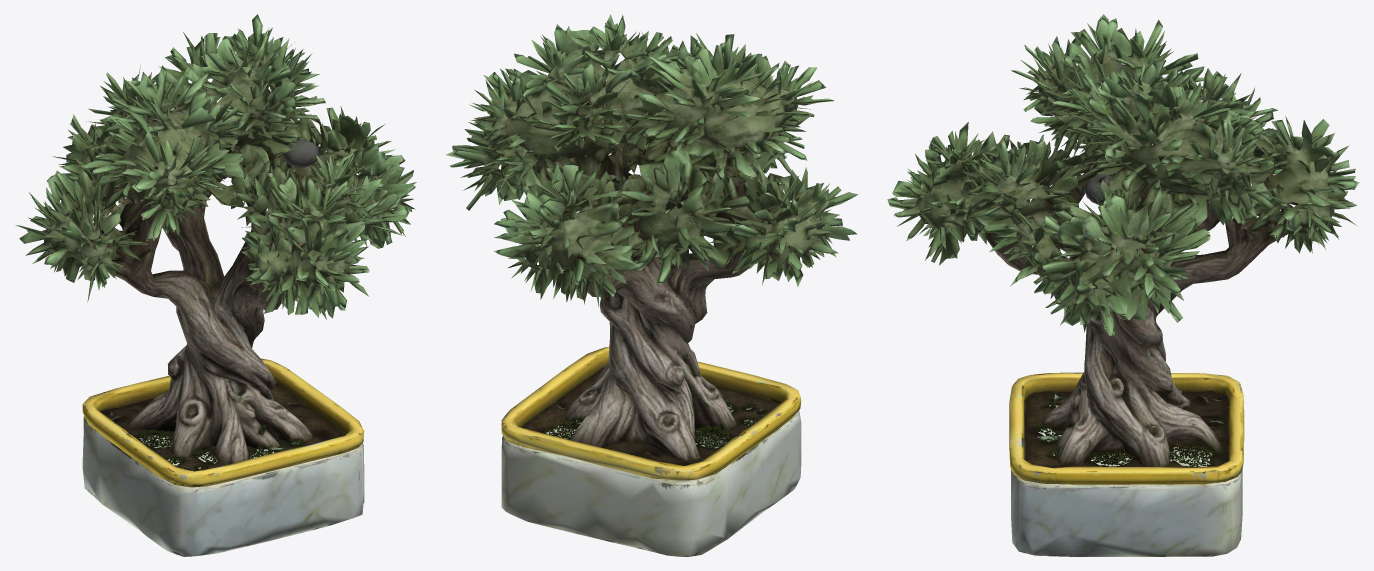
File: olive.glb
The picture shows the model from 3 angles, left to right: view 1: azimuth 30°, elevation 25°; view 2: azimuth 150°, elevation 25°; view 3: azimuth 270°, elevation 25°; orthographic projection. The views are drawn at different scales.
Parts seen in each view (by area): view 1: geometry_0; view 2: geometry_0; view 3: geometry_0.
Part boxes in pixels (x1,y1,x2,y2): geometry_0: (15,14,416,556); geometry_0: (446,14,858,556); geometry_0: (887,14,1359,556).
Bounding box in the file's own units: 0.8448 × 0.9764 × 0.9071.
1 material, 1 textured.
